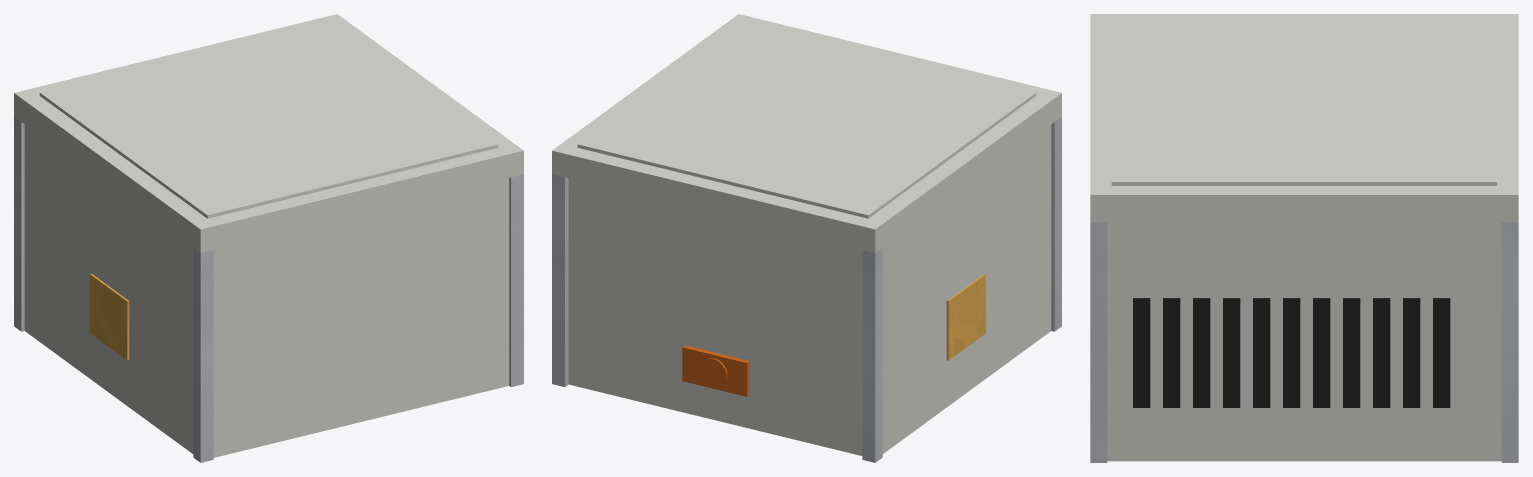
The model's file is rover26_battery_bay_m.glb.
3 views of the same model, side by side, from view 1: azimuth 30°, elevation 25°; view 2: azimuth 150°, elevation 25°; view 3: azimuth 270°, elevation 25° (orthographic). The views are drawn at different scales.
Visible parts, largest first — view 1: body, lid, frame, gold_label; view 2: body, lid, frame, port_connector, gold_label; view 3: lid, body, vents, frame.
Part boxes in pixels (bbox=[...]): body: bbox=[24, 125, 509, 457]; lid: bbox=[14, 14, 523, 252]; frame: bbox=[14, 117, 523, 462]; gold_label: bbox=[90, 273, 129, 360]; body: bbox=[568, 125, 1051, 455]; lid: bbox=[552, 14, 1061, 252]; frame: bbox=[552, 117, 1061, 462]; port_connector: bbox=[682, 345, 749, 396]; gold_label: bbox=[946, 273, 985, 360]; lid: bbox=[1090, 14, 1518, 222]; body: bbox=[1107, 222, 1501, 461]; vents: bbox=[1133, 298, 1450, 407]; frame: bbox=[1090, 222, 1518, 462].
Size of the model in its own units: 1 by 0.7 by 1.
Materials: 5 (2 with a texture image).
